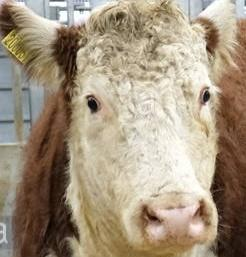muzzles: (121, 188, 220, 255)
